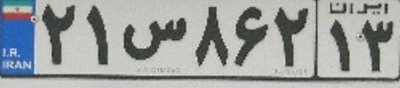character: (117, 12, 188, 65), (272, 2, 314, 73), (37, 1, 78, 68), (231, 2, 271, 70), (193, 2, 231, 72), (79, 1, 116, 69), (359, 17, 396, 76), (325, 18, 356, 73)
